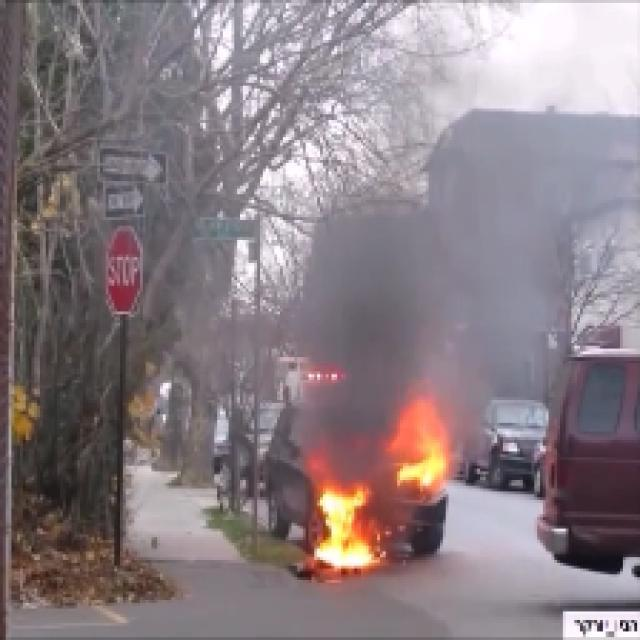Fire: (320, 488, 376, 580), (397, 413, 453, 483)
Smoke: (301, 202, 508, 402), (459, 110, 577, 196)
